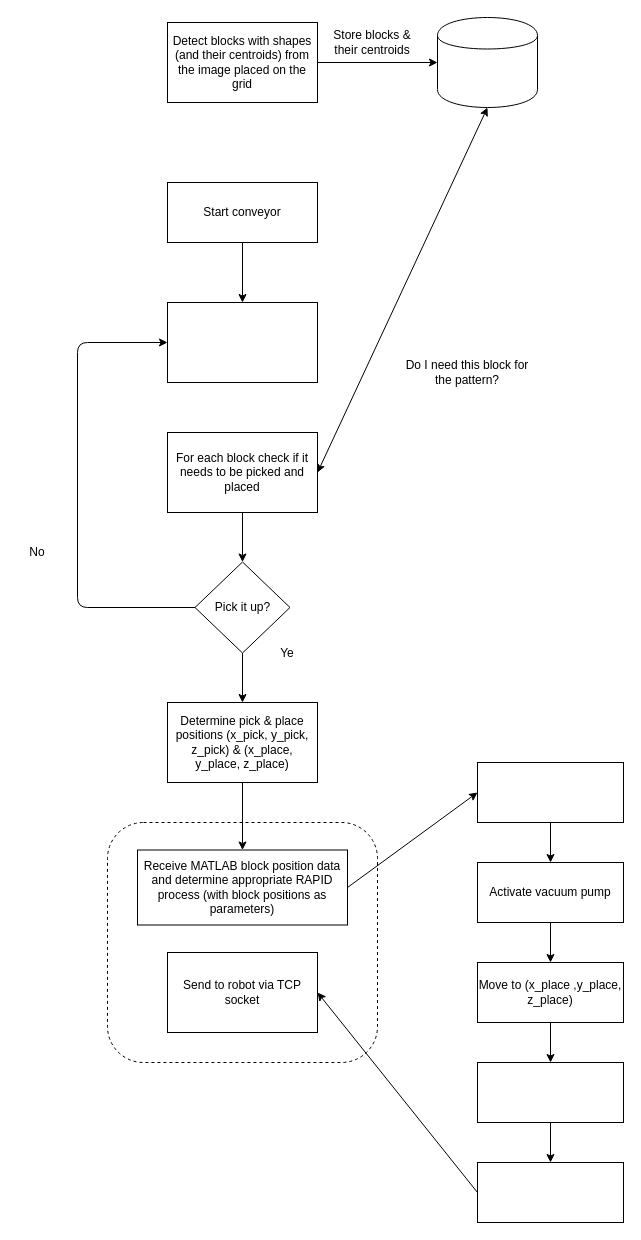
Image size: 641x1240. Some labels were removed from this diagram. Each missing label, with the centre of its shape:
"Blocks to be placed" goes at point (487, 62).
"De-activate vacuum pump" goes at point (550, 1092).
"Move robot back to picker position (home?)" goes at point (550, 1192).
"Move to (x_pick ,y_pick, z_pick)" goes at point (550, 792).
"Track live feed of blocks with shapes (and their centroids) passing on conveyor" goes at point (242, 342).
